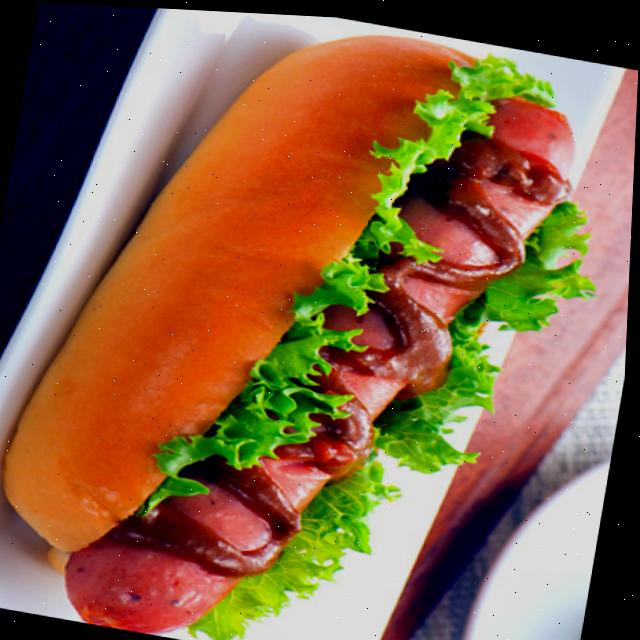汉堡快餐: (0, 8, 588, 640)
